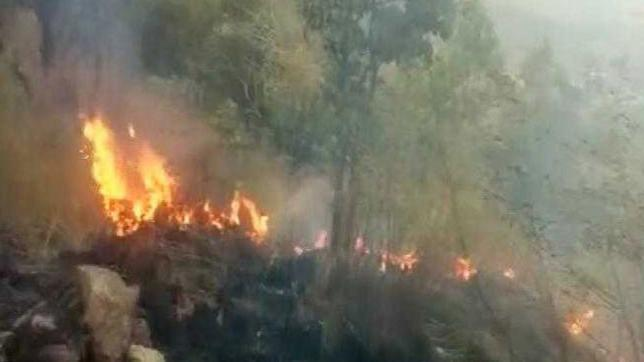fire: (76, 109, 271, 250)
